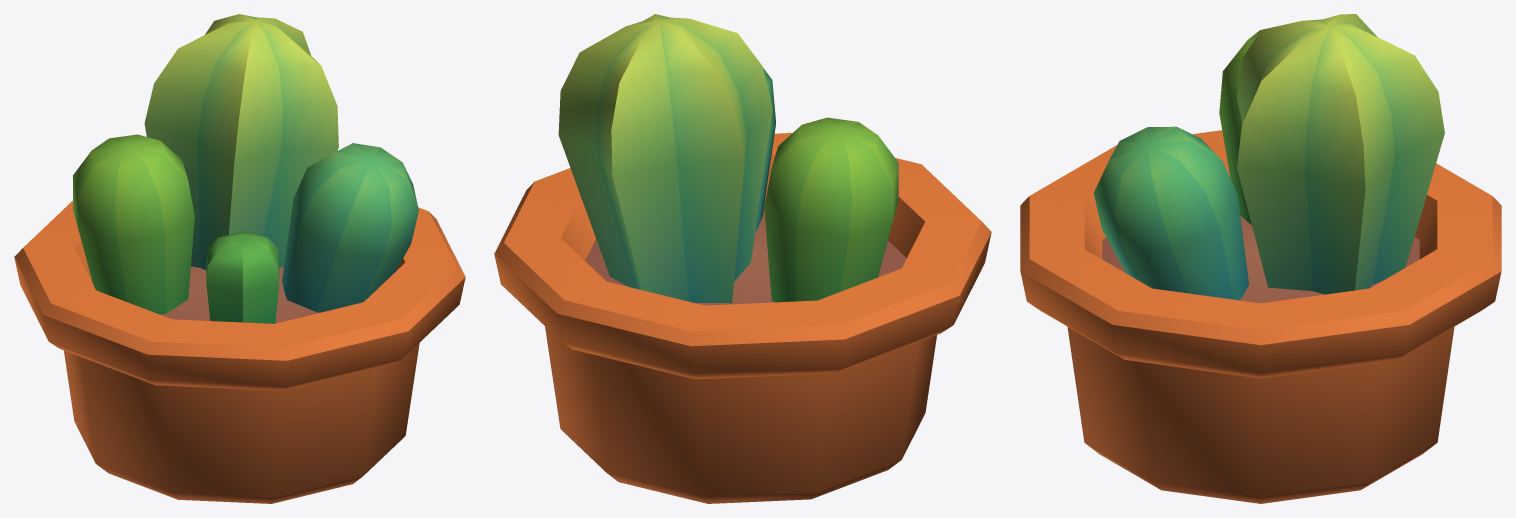
The model's file is cactus-medium-b.glb.
The picture shows the model from 3 angles, left to right: view 1: azimuth 30°, elevation 25°; view 2: azimuth 150°, elevation 25°; view 3: azimuth 270°, elevation 25°; orthographic projection. The views are drawn at different scales.
Visible parts, largest first — view 1: cactus_medium_B; view 2: cactus_medium_B; view 3: cactus_medium_B.
Part boxes in pixels (x1,y1,x2,y2): cactus_medium_B: (14,14,465,503); cactus_medium_B: (494,14,991,503); cactus_medium_B: (1020,14,1501,503).
Bounding box in the file's own units: 0.8799 × 0.8272 × 0.8368.
